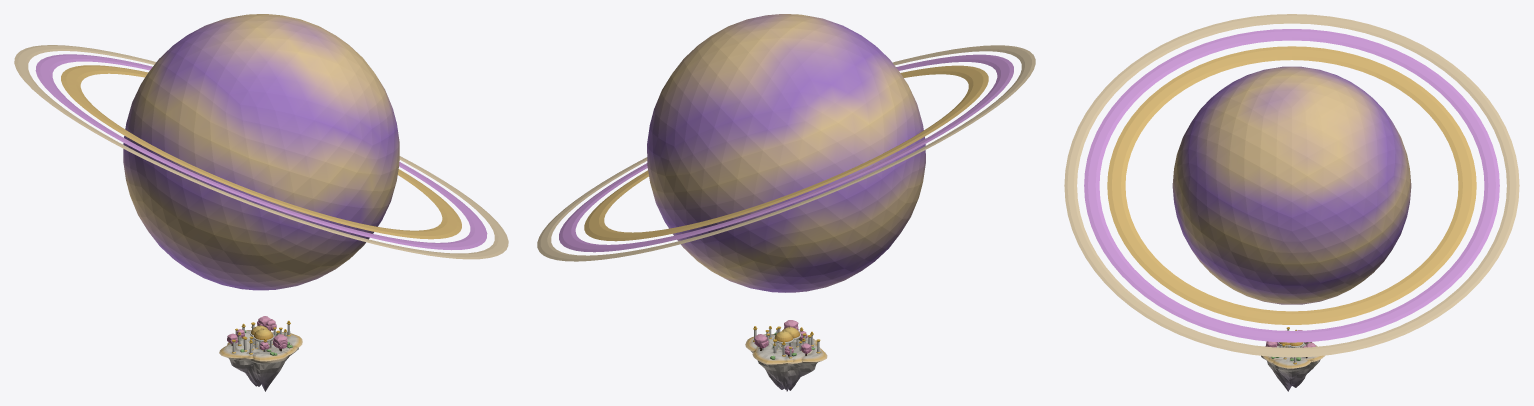
The model's file is isle-crown-CBlcaLAw.glb.
3 views of the same model, side by side, from view 1: azimuth 30°, elevation 25°; view 2: azimuth 150°, elevation 25°; view 3: azimuth 270°, elevation 25° (orthographic). The views are drawn at different scales.
Parts seen in each view (by area): view 1: far, isle_2, isle_1; view 2: far, isle_2, isle_1; view 3: far, isle_2, isle_1.
Part boxes in pixels (left/top/right/bottom): far: left=14, top=14, right=508, bottom=290; isle_2: left=227, top=316, right=296, bottom=391; isle_1: left=219, top=319, right=302, bottom=374; far: left=537, top=14, right=1035, bottom=292; isle_2: left=752, top=320, right=817, bottom=391; isle_1: left=745, top=326, right=827, bottom=377; far: left=1064, top=14, right=1519, bottom=357; isle_2: left=1261, top=329, right=1325, bottom=391; isle_1: left=1272, top=327, right=1312, bottom=380.
Size of the model in its own units: 592 by 493 by 648.
